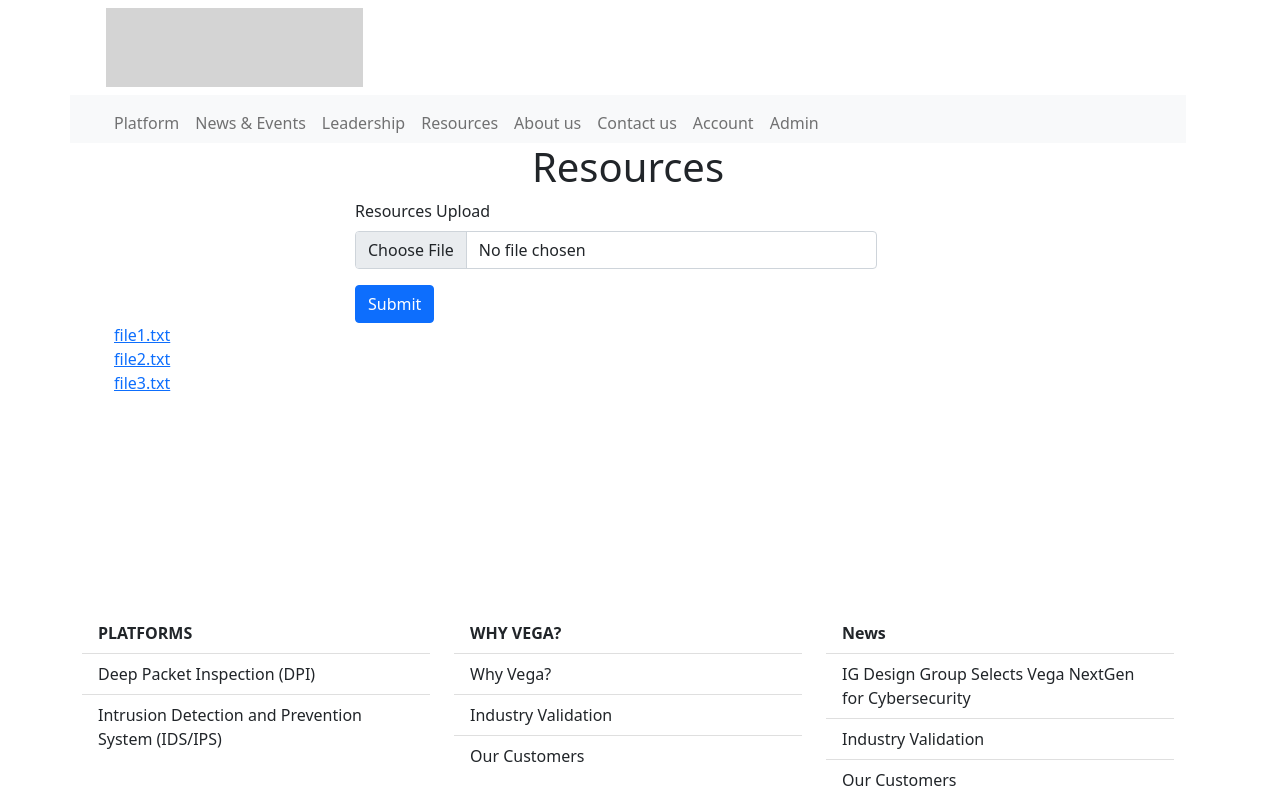
Scenario: Resources › admin › file fetch › should fetch files
Click the link "file1.txt" at {"x": 142, "y": 335}, box [114,324,170,346]
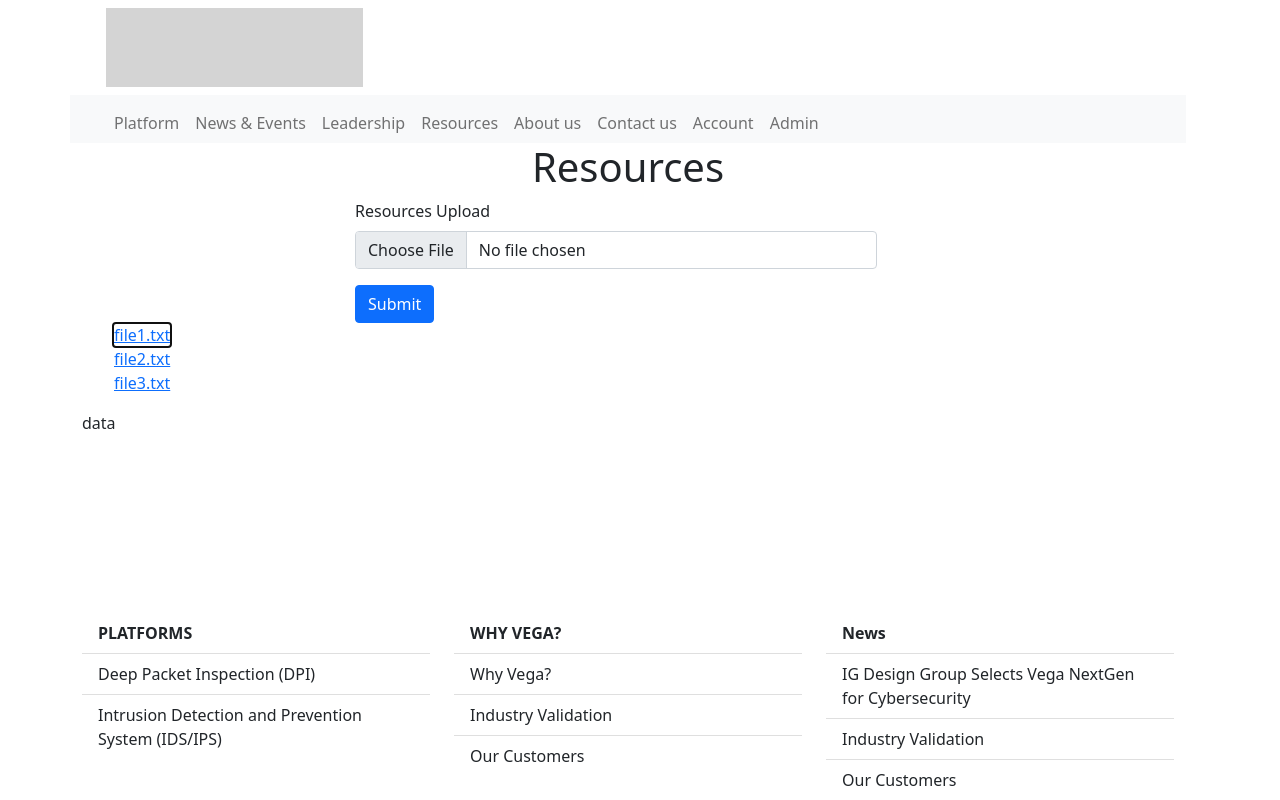
expect the text "data" is shown: met, box [82,412,116,434]
